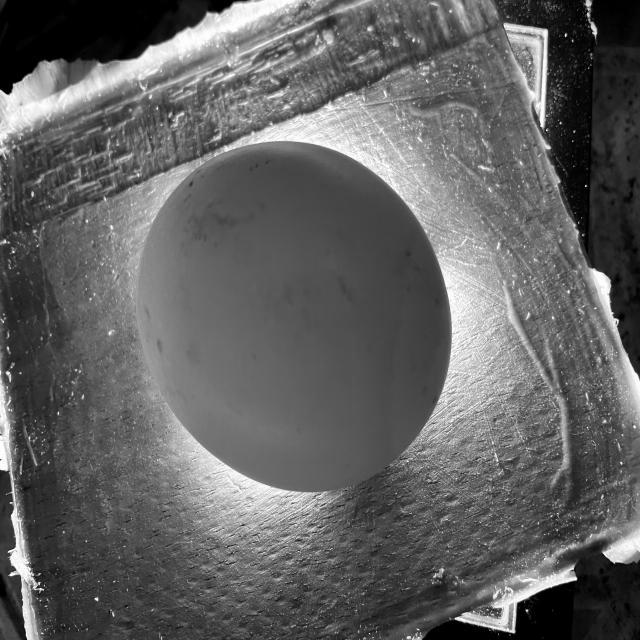telur: (113, 130, 463, 512)
